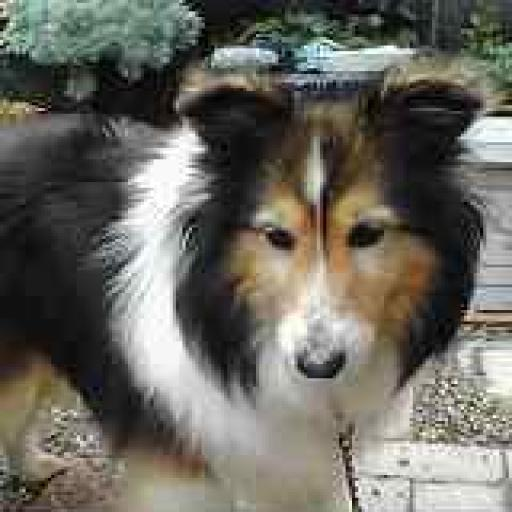dog_face: (182, 80, 493, 392)
